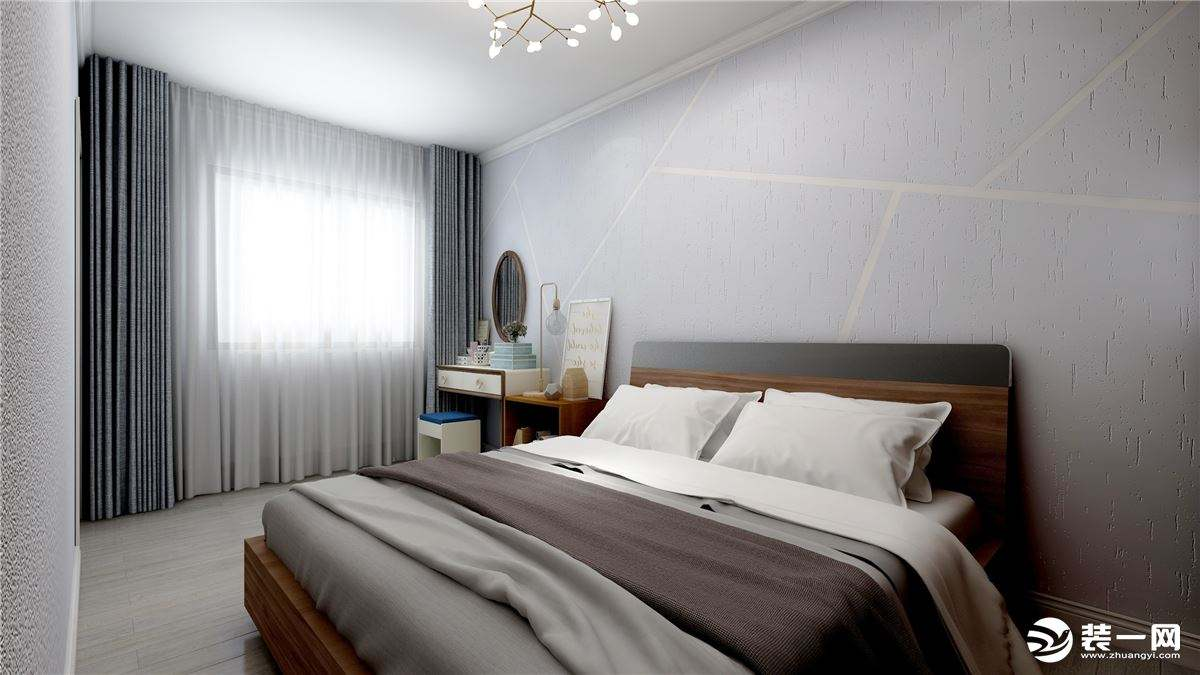床: (235, 439, 990, 675)
枕头: (583, 388, 944, 507)
灯: (465, 3, 645, 67), (533, 279, 572, 402)
